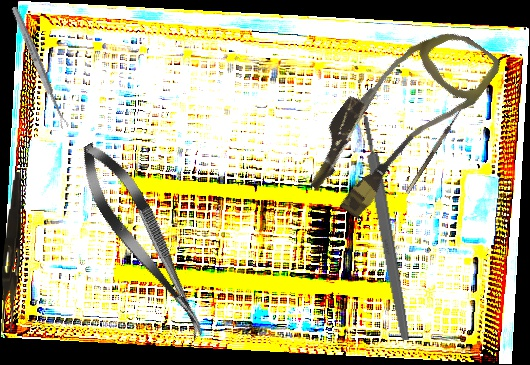Cannula: (293, 1, 505, 235)
Dressing Forceps: (0, 171, 24, 333)
Hook Surgical: (400, 91, 472, 195)
Micro Scissor: (67, 133, 221, 348)
Scalpel Handle: (359, 113, 412, 342)
Surgical Spoon: (9, 5, 70, 130)
